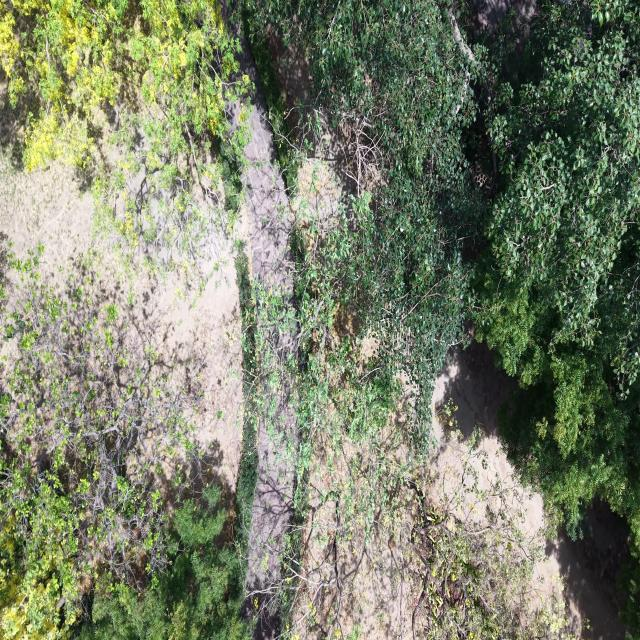DRY_AREA: (0, 37, 293, 499), (0, 157, 242, 572), (0, 154, 243, 505), (0, 155, 242, 499), (428, 344, 628, 639), (428, 343, 626, 639), (291, 407, 411, 639), (417, 352, 545, 551), (240, 35, 293, 303), (242, 40, 293, 299), (246, 377, 295, 639), (535, 504, 627, 639), (537, 503, 628, 639), (243, 43, 292, 295), (546, 502, 628, 639), (0, 154, 93, 274), (472, 0, 538, 45)
PATHWAYS: (246, 376, 295, 639)
VEGETATION_TREE: (236, 0, 639, 638), (244, 0, 639, 534), (242, 0, 484, 637), (249, 191, 565, 639), (279, 198, 567, 639), (0, 251, 248, 639), (243, 0, 485, 394), (0, 254, 246, 639), (475, 2, 639, 536), (0, 251, 200, 638), (0, 0, 250, 291), (0, 0, 239, 170), (405, 432, 573, 639), (80, 485, 248, 639), (239, 10, 312, 195)
